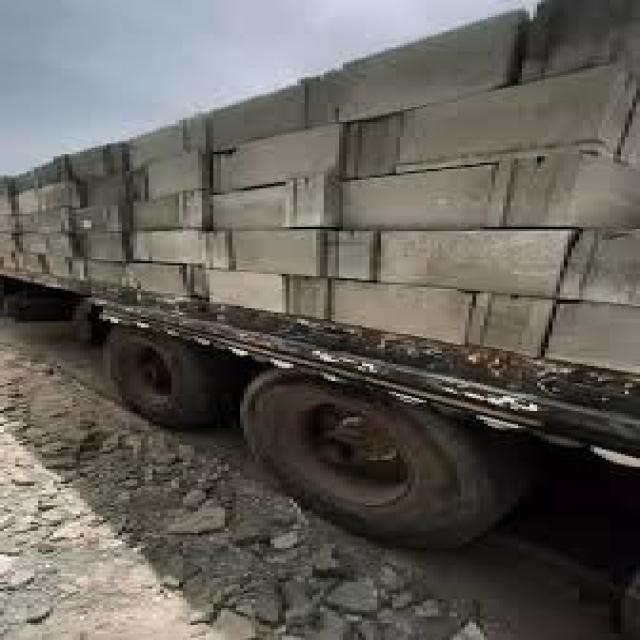bricks: (4, 0, 636, 370)
